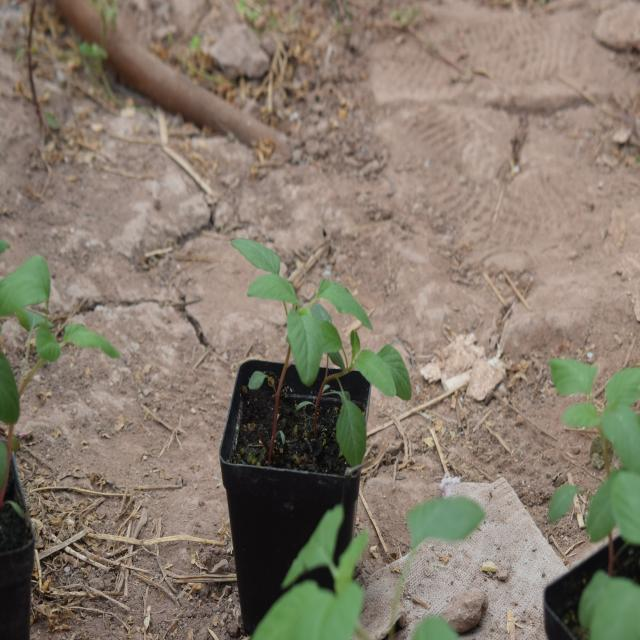pigweed: (231, 232, 376, 384)
